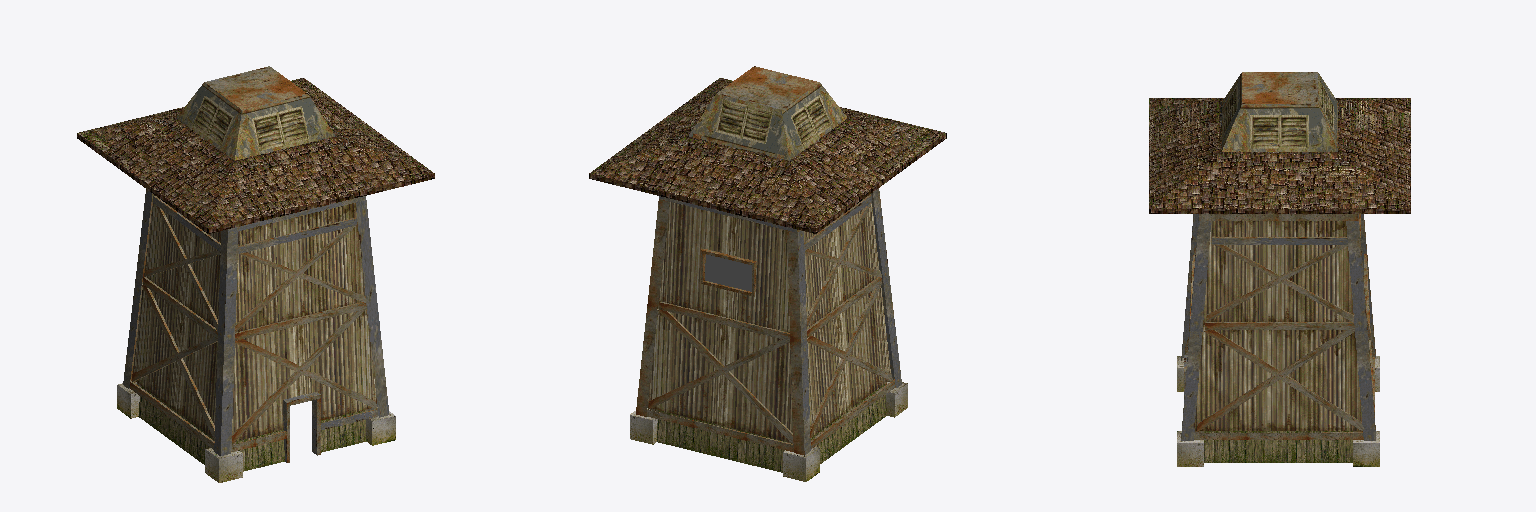
The picture shows the model from 3 angles: view 1: azimuth 30°, elevation 25°; view 2: azimuth 150°, elevation 25°; view 3: azimuth 270°, elevation 25°; orthographic projection.
Parts seen in each view (by area): view 1: SgeneratorBuilding00-00.SgeneratorBuilding00-00_SgeneratorBuildi; view 2: SgeneratorBuilding00-00.SgeneratorBuilding00-00_SgeneratorBuildi; view 3: SgeneratorBuilding00-00.SgeneratorBuilding00-00_SgeneratorBuildi.
Part boxes in pixels (x1,y1,x2,y2): SgeneratorBuilding00-00.SgeneratorBuilding00-00_SgeneratorBuildi: (77,66,434,482); SgeneratorBuilding00-00.SgeneratorBuilding00-00_SgeneratorBuildi: (589,66,946,481); SgeneratorBuilding00-00.SgeneratorBuilding00-00_SgeneratorBuildi: (1149,72,1410,466).
Bounding box in the file's own units: 1.41 × 2 × 1.41.
21 materials, 21 textured.